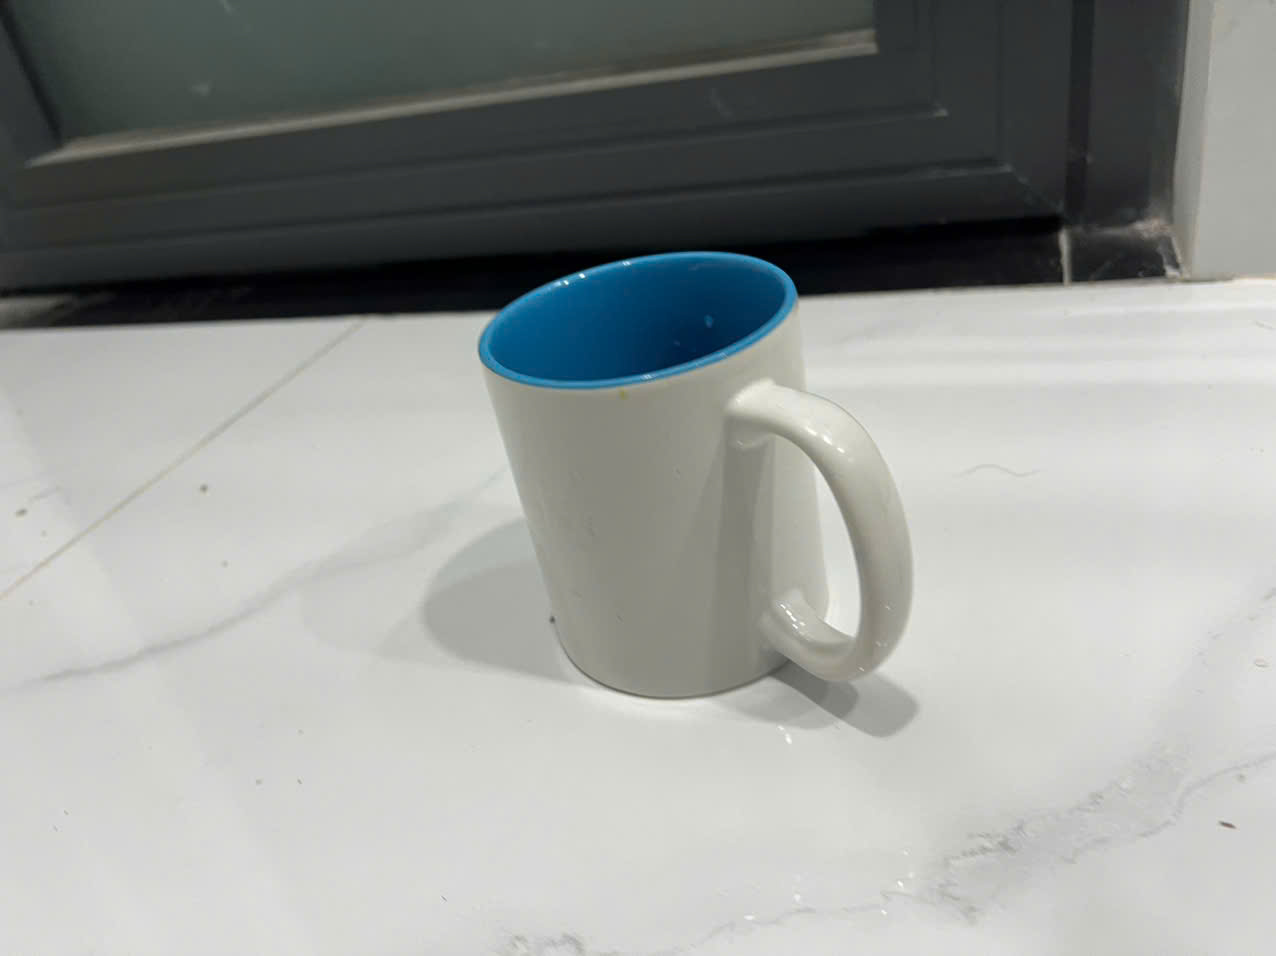ly coc: (451, 241, 931, 703)
